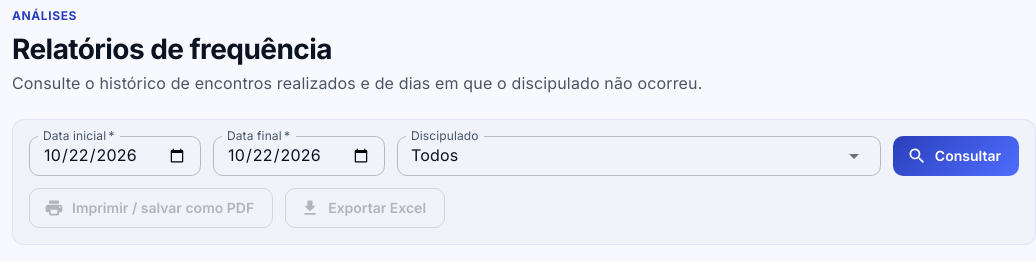
it: relatório diário de frequência › permite buscar discipulado por parte do nome do discipulador no relatório
In the dropdown with placeholder "Pesquisar discipulado ou discipulador": [609, 156] box [403,142,816,170], type "João"
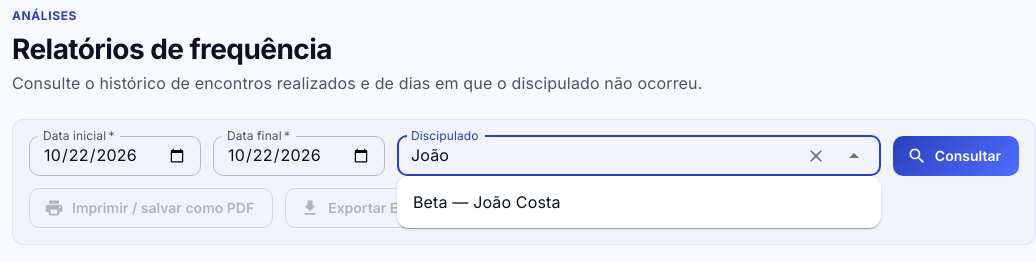
Now the option "Beta — João Costa" is shown, box [413,192,561,212]
